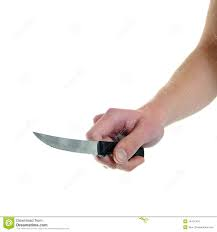knife: (31, 128, 154, 171)
